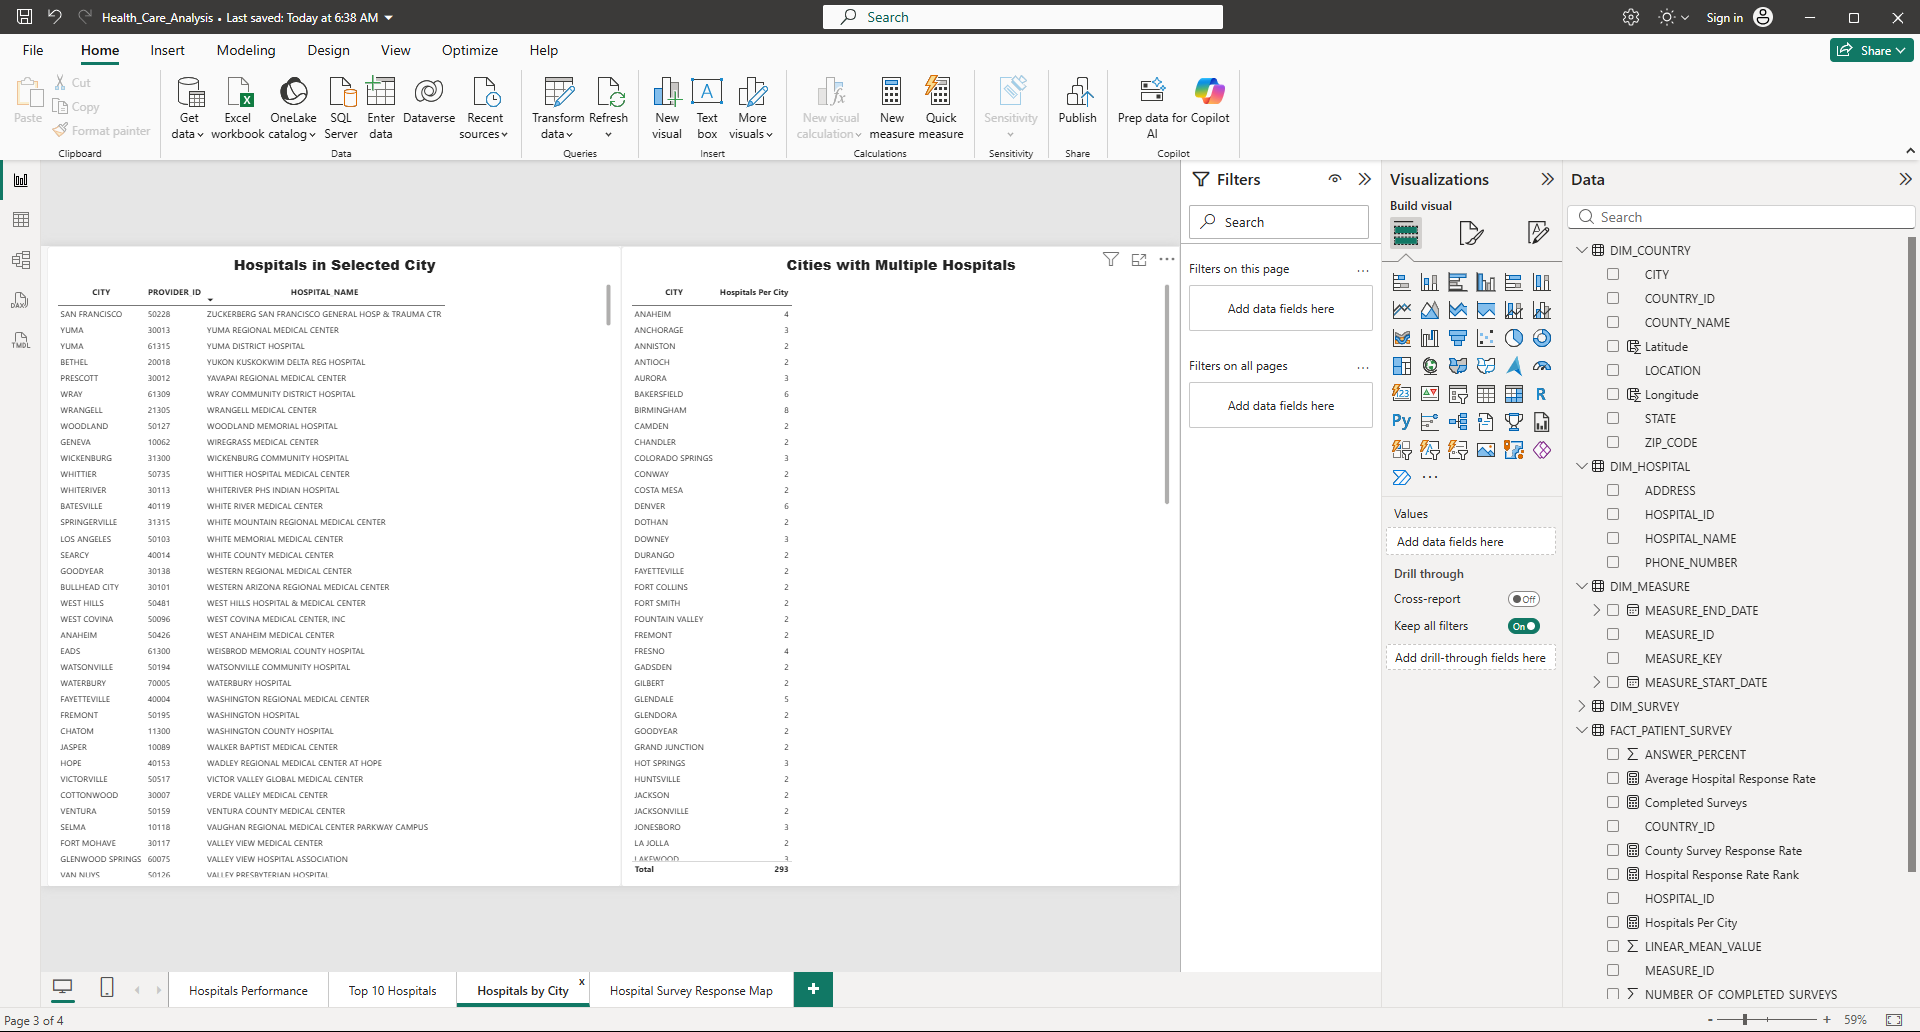

The dashboard page shown, as its layout file describes it:
{"tool":"powerbi","page":{"name":"Hospitals by City","canvas":[1920,1080],"ordinal":2},"visuals":[{"type":"tableEx","title":"Hospitals in Selected City","fields":{"Values":["DIM_COUNTRY.CITY","DIM_HOSPITAL.PROVIDER_ID","DIM_HOSPITAL.HOSPITAL_NAME"]},"box":[10.1,0,967.6,1080.5],"z":0},{"type":"tableEx","title":"Cities with Multiple Hospitals","fields":{"Values":["DIM_COUNTRY.CITY","FACT_PATIENT_SURVEY.Hospitals Per City"]},"box":[977.7,0,942.3,1080.5],"z":1}]}

Visuals, with their boxes on the page's 1920x1080 design canvas (x1, y1, x2, y2). These are canvas units, not pixel positions in the 1920x1032 screenshot, which may show the page scaled, cropped or inside an application window:
"Hospitals in Selected City" tableEx: left=10, top=0, right=978, bottom=1080
"Cities with Multiple Hospitals" tableEx: left=978, top=0, right=1920, bottom=1080
